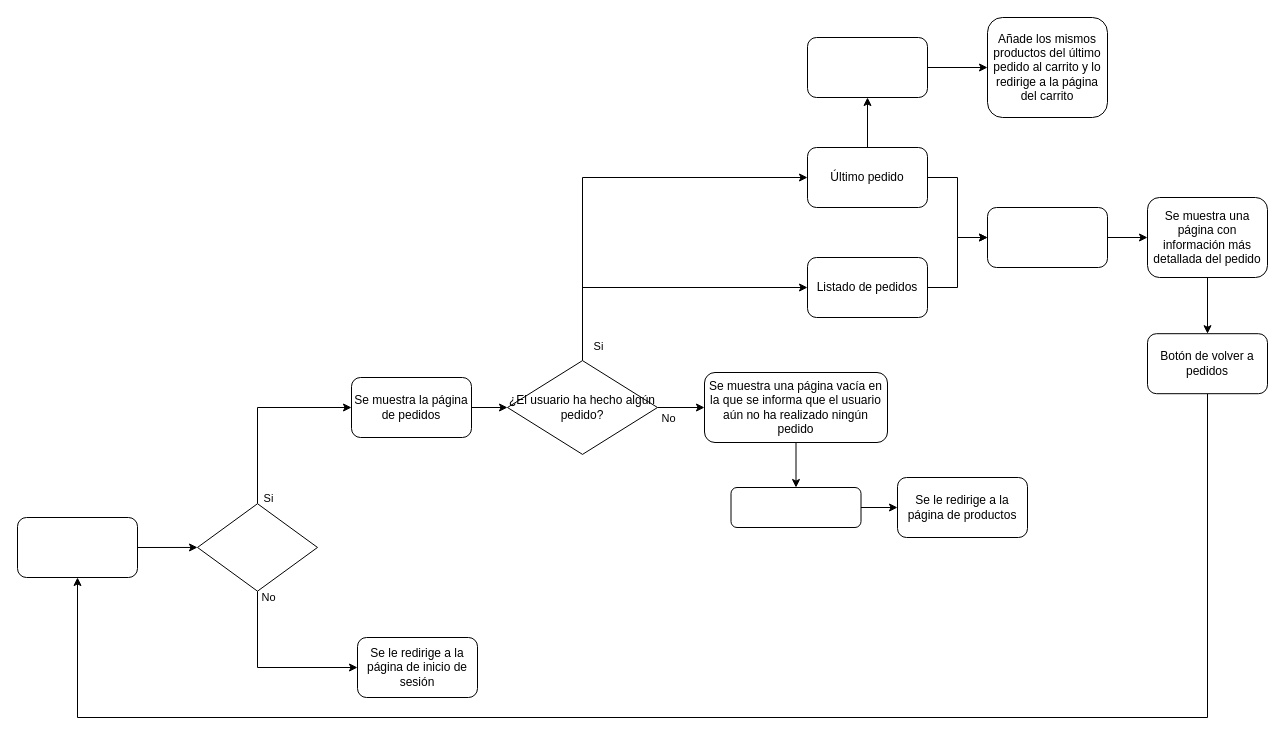
Some shapes in this 1285 by 743 pixel diagram are drawn without their labels. The shapes that lost their labels are listed below. From the top down, each one's box as (x1, y1, x2, y2) in pixels, then its label:
(806, 36, 928, 98): Botón de repetir pedido
(986, 206, 1108, 268): Botón de mostrar más detalles del pedido
(730, 486, 861, 528): Botón de revisar productos
(16, 516, 138, 578): Página de pedidos
(196, 503, 318, 591): ¿El usuario ha iniciado sesión?
